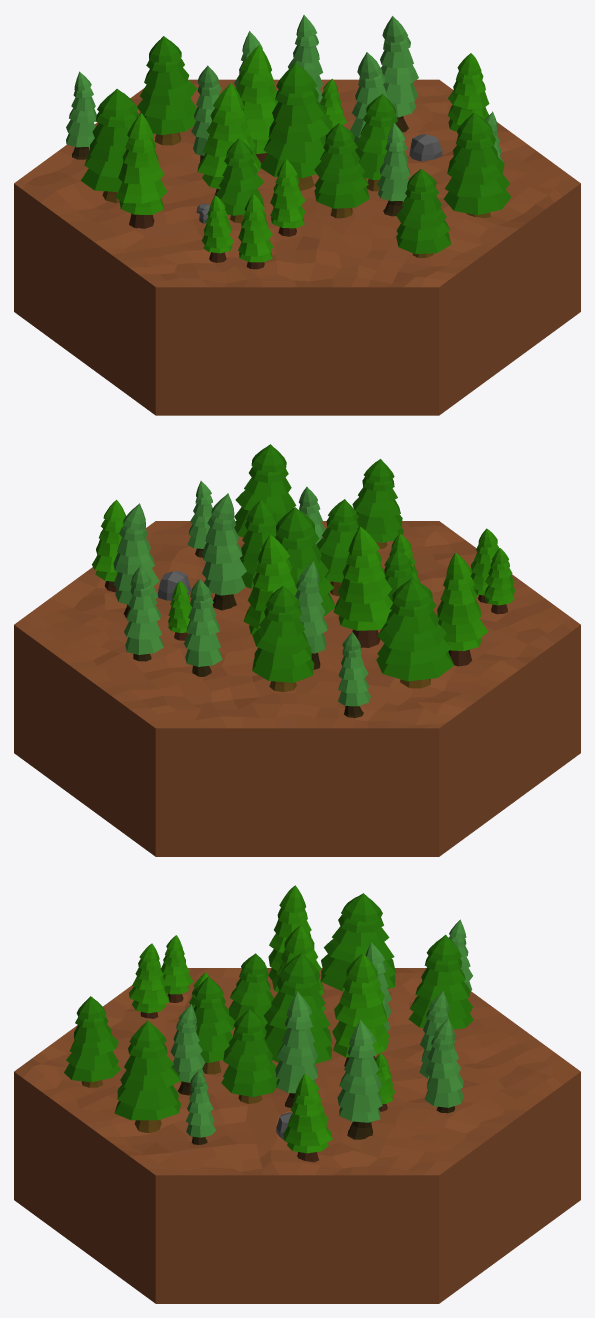
Rendered from Forrest.fbx.
3 views of the same model, one above another, from view 1: azimuth 30°, elevation 25°; view 2: azimuth 150°, elevation 25°; view 3: azimuth 270°, elevation 25° (orthographic).
Visible parts, largest first — view 1: Ground, Ring2.004, Ring3.004, Ring.013, Ring3.013, Ring4.004, Ring2.021, Ring2.013, Ring2.022, Ring3.022, Ring6.004, Ring4.013 (+35 smaller); view 2: Ground, Ring3.016, Ring.016, Ring2.003, Ring3.003, Ring2.016, Ring3.022, Ring2.022, Ring6.004, Ring4.016, Ring3.021, Ring6.016 (+23 smaller); view 3: Ground, Ring2.013, Ring3.015, Ring3.013, Ring6.004, Ring3.016, Ring6.016, Ring.013, Ring3.010, Ring2.017, Ring3.022, Ring2.004 (+33 smaller).
Part boxes in pixels (left/top/right/bottom): Ground: left=14, top=79, right=580, bottom=415; Ring2.004: left=263, top=135, right=325, bottom=163; Ring3.004: left=268, top=115, right=332, bottom=143; Ring.013: left=444, top=189, right=511, bottom=215; Ring3.013: left=447, top=157, right=504, bottom=184; Ring4.004: left=272, top=101, right=324, bottom=126; Ring2.021: left=116, top=178, right=167, bottom=203; Ring2.013: left=445, top=174, right=509, bottom=197; Ring2.022: left=137, top=98, right=196, bottom=119; Ring3.022: left=139, top=80, right=197, bottom=105; Ring6.004: left=276, top=62, right=317, bottom=93; Ring4.013: left=453, top=145, right=498, bottom=167; Ground: left=14, top=521, right=580, bottom=856; Ring3.016: left=377, top=623, right=446, bottom=652; Ring.016: left=376, top=652, right=454, bottom=681; Ring2.003: left=333, top=595, right=392, bottom=622; Ring3.003: left=337, top=577, right=392, bottom=604; Ring2.016: left=377, top=637, right=452, bottom=665; Ring3.022: left=252, top=627, right=308, bottom=654; Ring2.022: left=254, top=646, right=311, bottom=669; Ring6.004: left=276, top=507, right=315, bottom=538; Ring4.016: left=386, top=610, right=438, bottom=633; Ring3.021: left=437, top=600, right=481, bottom=624; Ring6.016: left=392, top=578, right=432, bottom=607; Ground: left=14, top=968, right=580, bottom=1303; Ring2.013: left=117, top=1085, right=178, bottom=1110; Ring3.015: left=334, top=1003, right=387, bottom=1027; Ring3.013: left=120, top=1066, right=180, bottom=1090; Ring6.004: left=279, top=953, right=320, bottom=984; Ring3.016: left=324, top=939, right=394, bottom=962; Ring6.016: left=341, top=893, right=382, bottom=922; Ring.013: left=114, top=1100, right=181, bottom=1120; Ring3.010: left=223, top=1046, right=272, bottom=1071; Ring2.017: left=337, top=1088, right=382, bottom=1112; Ring3.022: left=415, top=981, right=470, bottom=1001; Ring2.004: left=264, top=1023, right=331, bottom=1052.
Bounding box in the file's own units: 173 × 96.45 × 200.
